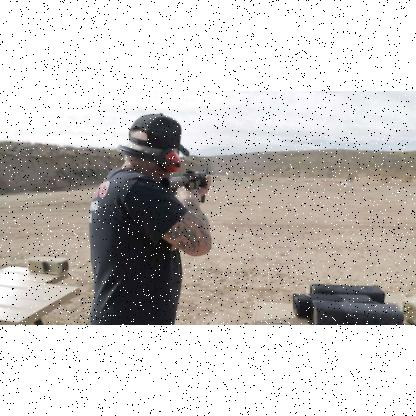gun: (160, 166, 212, 208)
